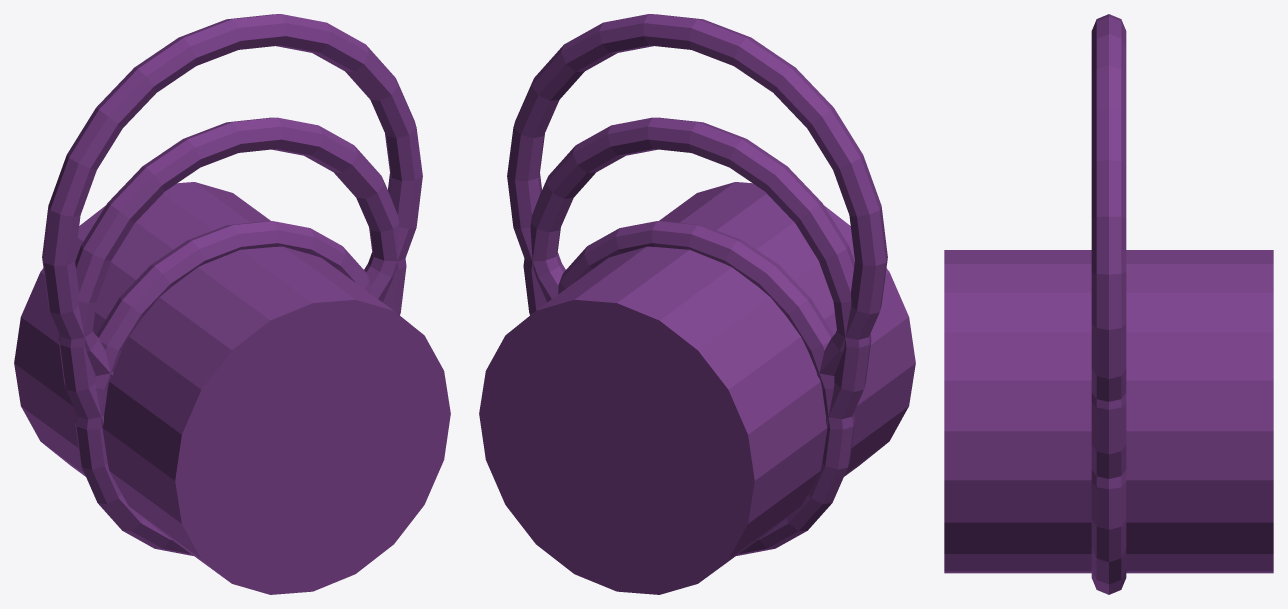
The model's file is music_088.glb.
The picture shows the model from 3 angles, left to right: view 1: azimuth 30°, elevation 25°; view 2: azimuth 150°, elevation 25°; view 3: azimuth 270°, elevation 25°; orthographic projection. The views are drawn at different scales.
Visible parts, largest first — view 1: world; view 2: world; view 3: world.
Part boxes in pixels (<box>): world: <box>14,14,450,594</box>; world: <box>479,14,915,594</box>; world: <box>944,14,1273,594</box>.
Size of the model in its own units: 1.15 by 1.55 by 0.85.
